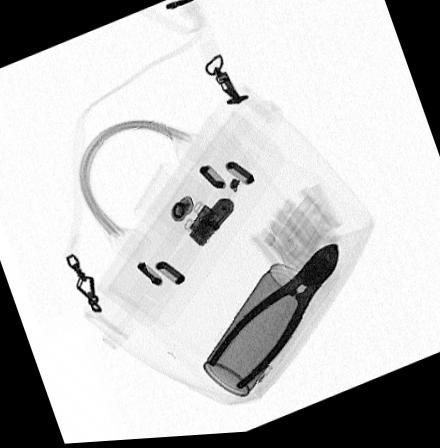Pliers: (205, 245, 342, 395)
